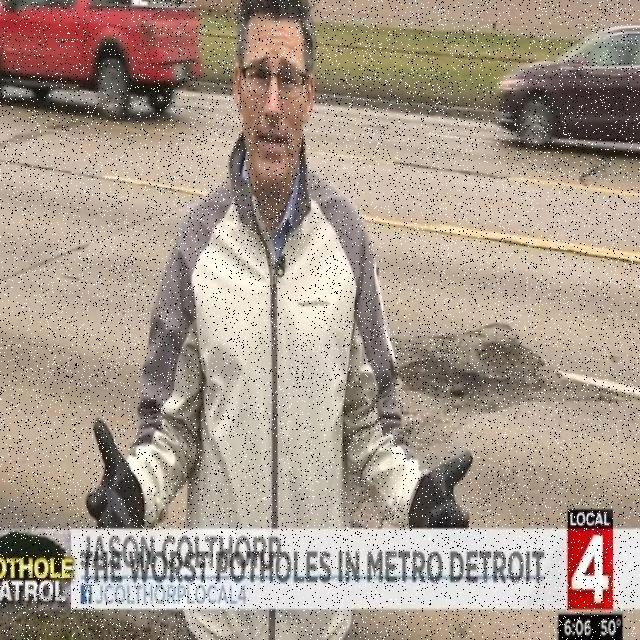pothole: (395, 329, 608, 441)
